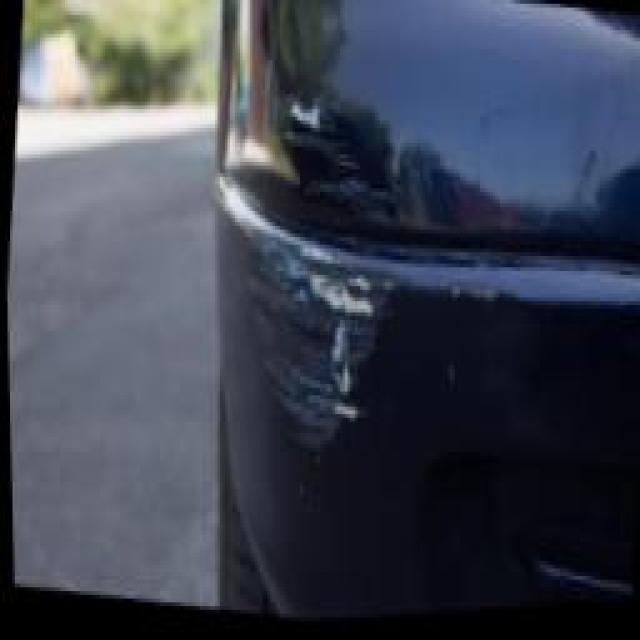Bumper: (200, 211, 413, 504)
Fender: (258, 49, 424, 268)
